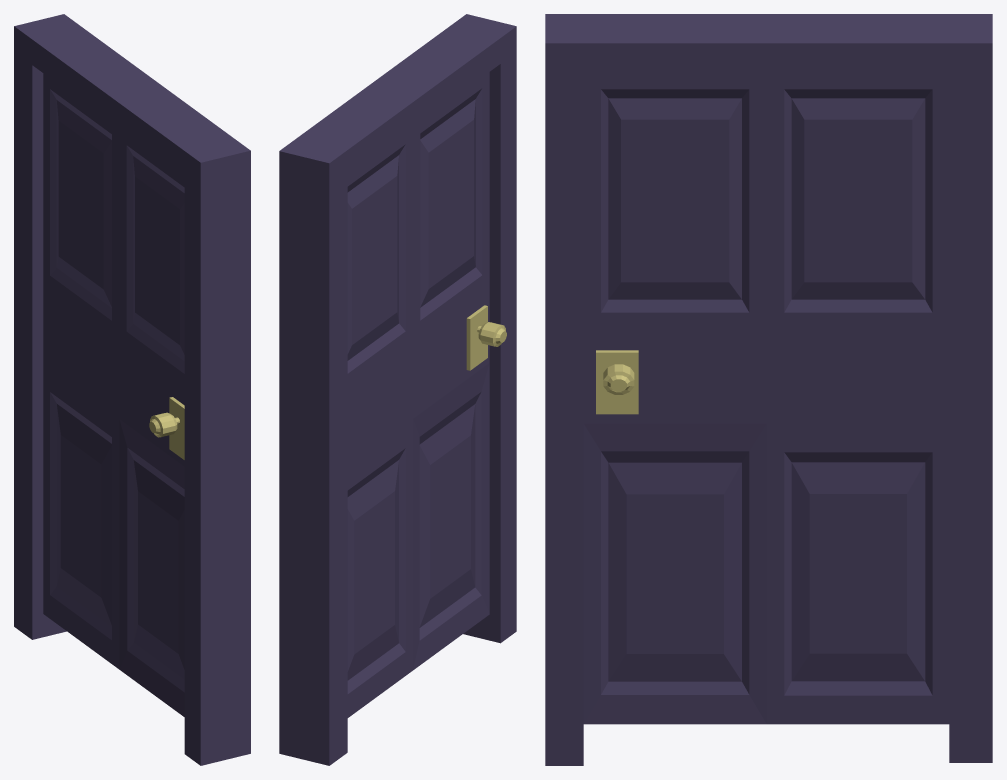
The model's file is door.fbx.
3 views of the same model, side by side, from view 1: azimuth 30°, elevation 25°; view 2: azimuth 150°, elevation 25°; view 3: azimuth 270°, elevation 25° (orthographic). The views are drawn at different scales.
Parts seen in each view (by area): view 1: group1559002970, group1708765680; view 2: group1559002970, group1708765680; view 3: group1559002970, group1708765680.
Boxes of the visible parts, left/top/right/bottom form: group1559002970: left=43, top=73, right=184, bottom=716; group1708765680: left=14, top=14, right=250, bottom=765; group1559002970: left=347, top=72, right=506, bottom=717; group1708765680: left=279, top=14, right=516, bottom=765; group1559002970: left=583, top=74, right=949, bottom=724; group1708765680: left=545, top=14, right=992, bottom=765.
Size of the model in its own units: 34.14 by 257 by 144.
